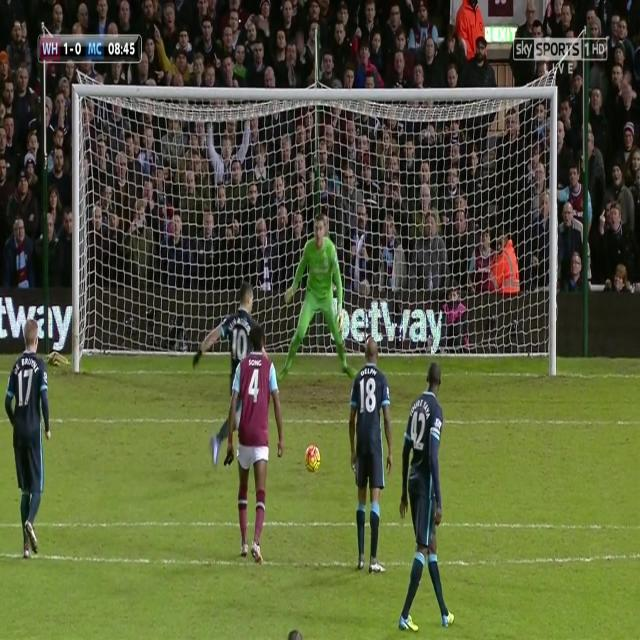Ball: (303, 440, 322, 476)
Goalkeeper: (276, 212, 358, 381)
Player: (397, 361, 457, 633), (225, 328, 285, 566), (191, 284, 258, 462), (3, 318, 52, 555), (348, 336, 392, 576)
